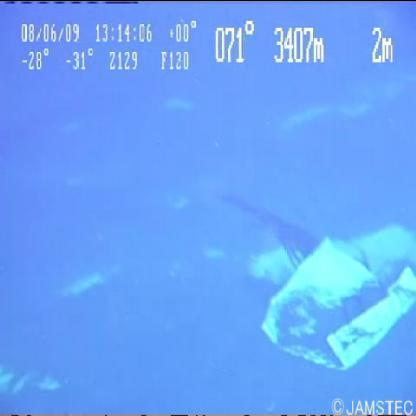Rác: (238, 191, 415, 387)
